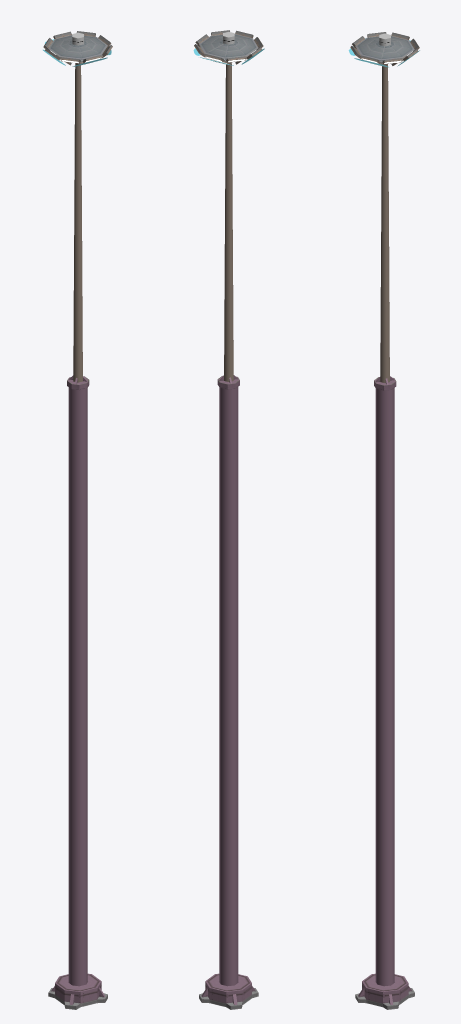
Rendered from pro_floodlight_overhead_2.fbx.
3 views of the same model, side by side, from view 1: azimuth 30°, elevation 25°; view 2: azimuth 150°, elevation 25°; view 3: azimuth 330°, elevation 25° (orthographic).
Visible parts, largest first — view 1: support_pylon, pro_floodlight_overhead_2, support_ground; view 2: support_pylon, pro_floodlight_overhead_2, support_ground; view 3: support_pylon, pro_floodlight_overhead_2, support_ground.
Boxes of the visible parts, x1,y1,x2,y2 form: support_pylon: (68, 387, 87, 986); pro_floodlight_overhead_2: (43, 31, 112, 382); support_ground: (48, 973, 107, 1009); support_pylon: (219, 387, 238, 986); pro_floodlight_overhead_2: (194, 30, 263, 381); support_ground: (199, 973, 258, 1009); support_pylon: (375, 388, 394, 985); pro_floodlight_overhead_2: (350, 32, 419, 382); support_ground: (355, 973, 414, 1009).
Bounding box in the file's own units: 910 × 10584 × 933.
